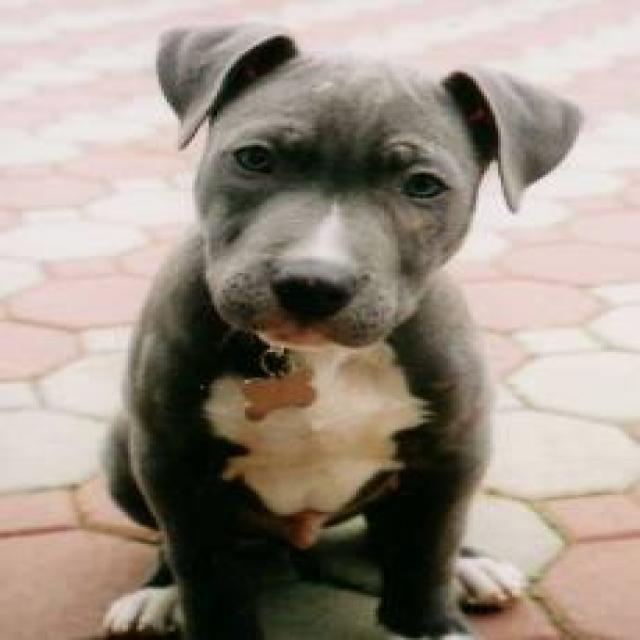dog-american_pit_bull_terrier: (89, 9, 590, 636)
